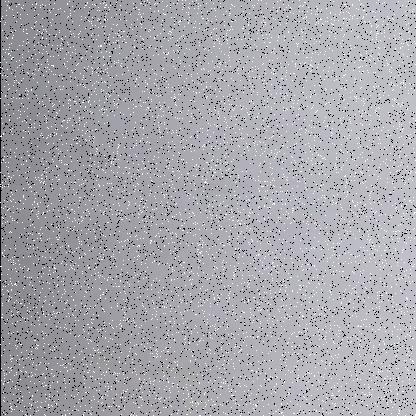Nocrack: (0, 0, 414, 413)
